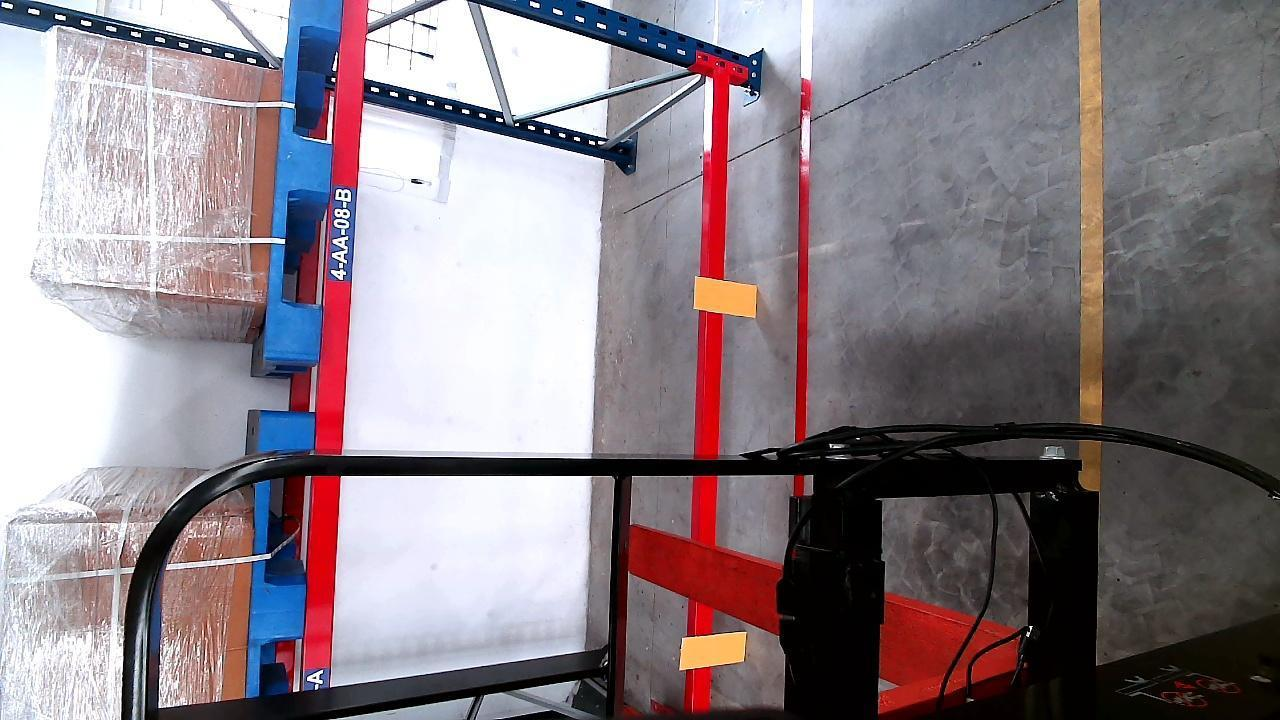h_rack: (306, 0, 369, 690), (695, 73, 733, 720)
orange_strip: (681, 629, 748, 668), (697, 278, 757, 315)
red_line: (792, 12, 815, 434)
small_pallet: (269, 0, 345, 360), (249, 414, 315, 690)
yellow_line: (1079, 0, 1106, 432)
